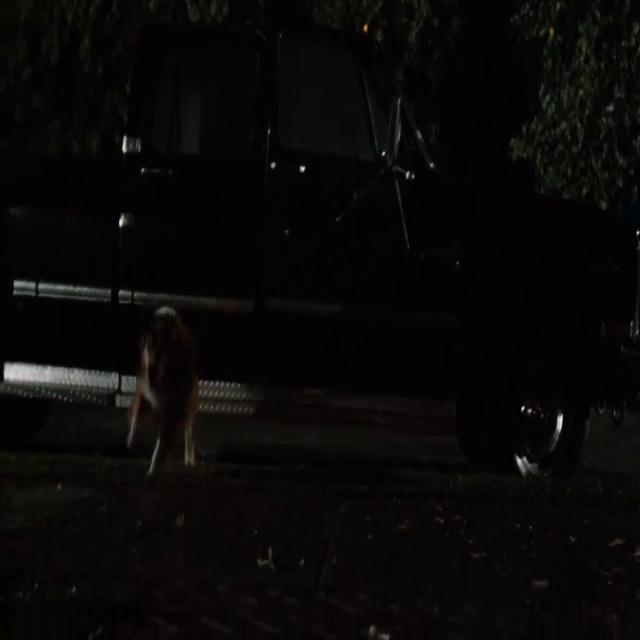Dog: (94, 259, 233, 533)
